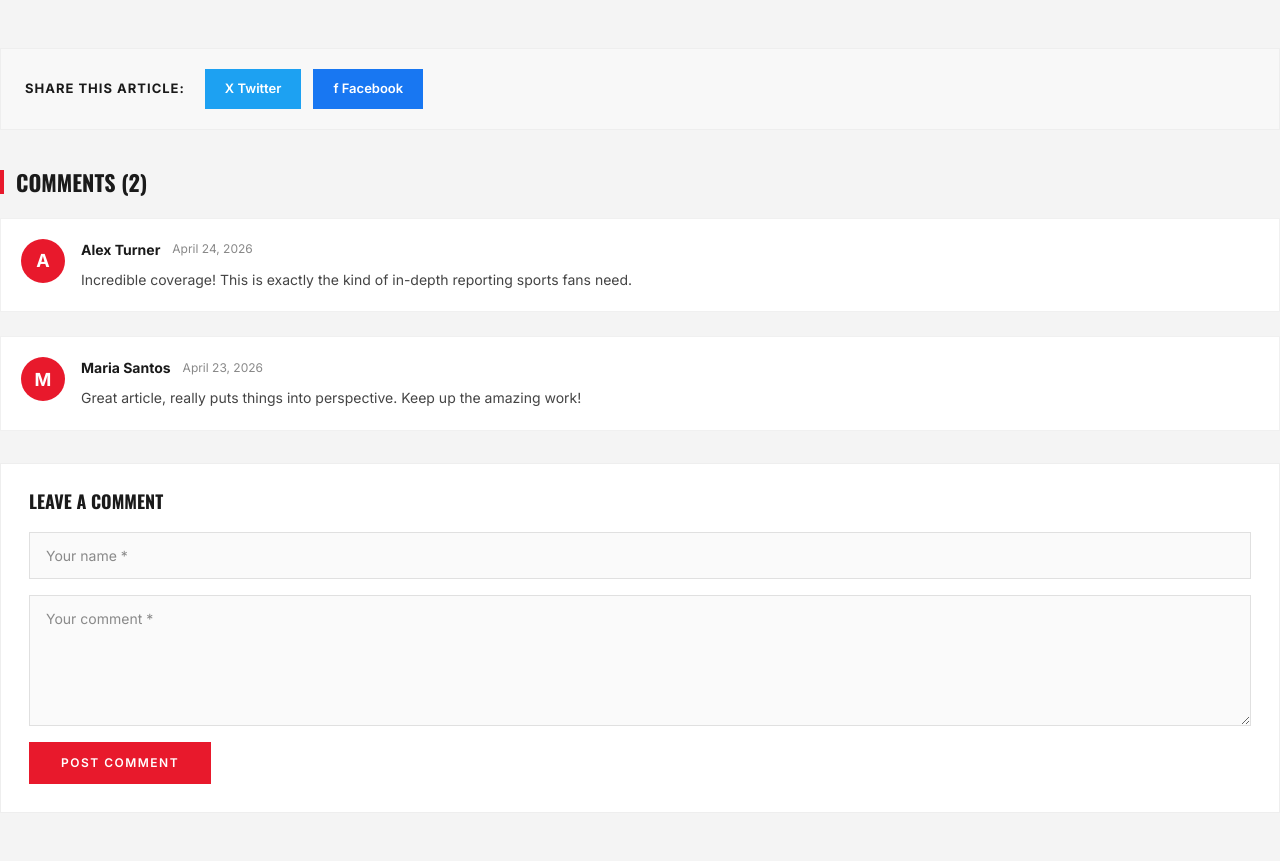
Test: CommentSection — izoh qo'shish › yangi izoh avatari ismning birinchi harfi (uppercase)
Type "Zafar" into the field with placeholder "Your name *". click: [640, 556]
box: [29,532,1251,579]
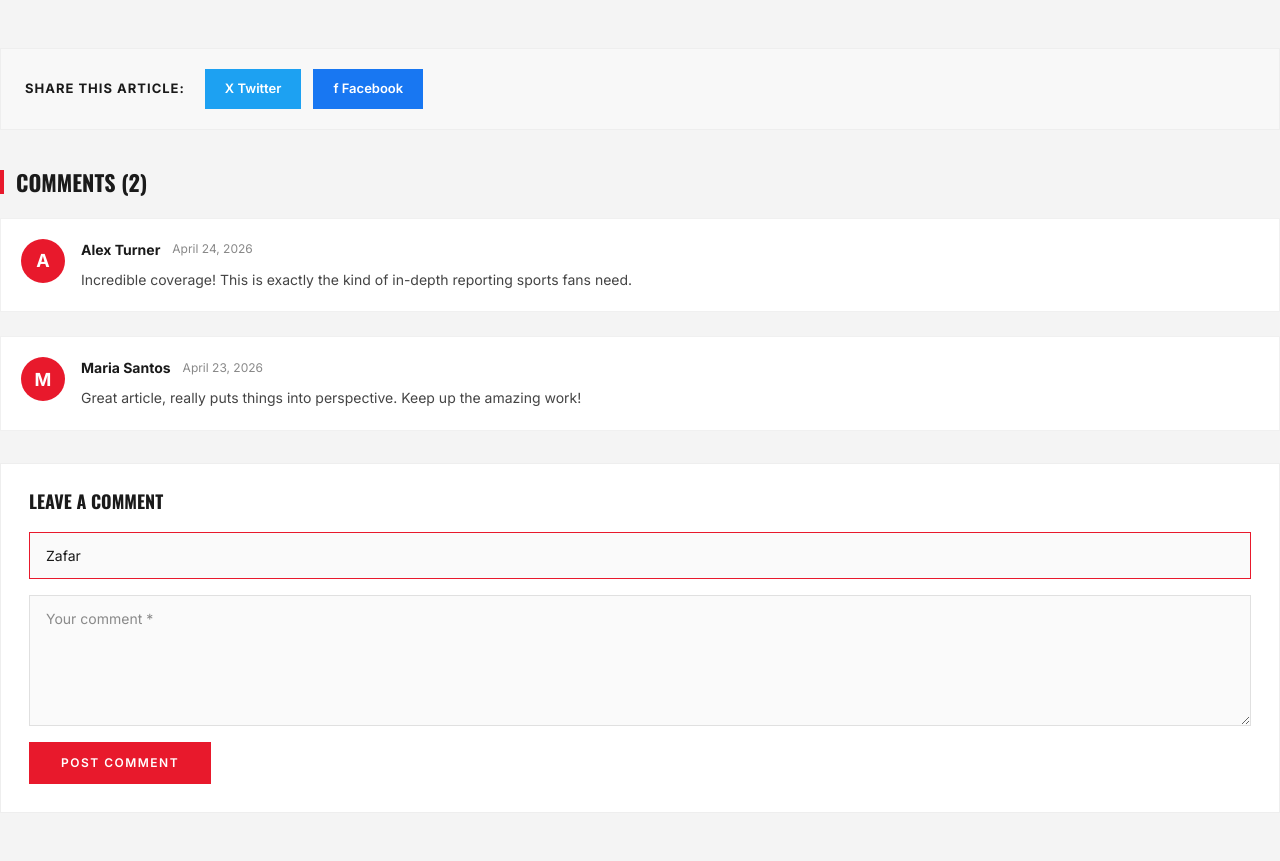
Type "Test" into the text box with placeholder "Your comment *". click: [640, 661]
box: [29,595,1251,726]
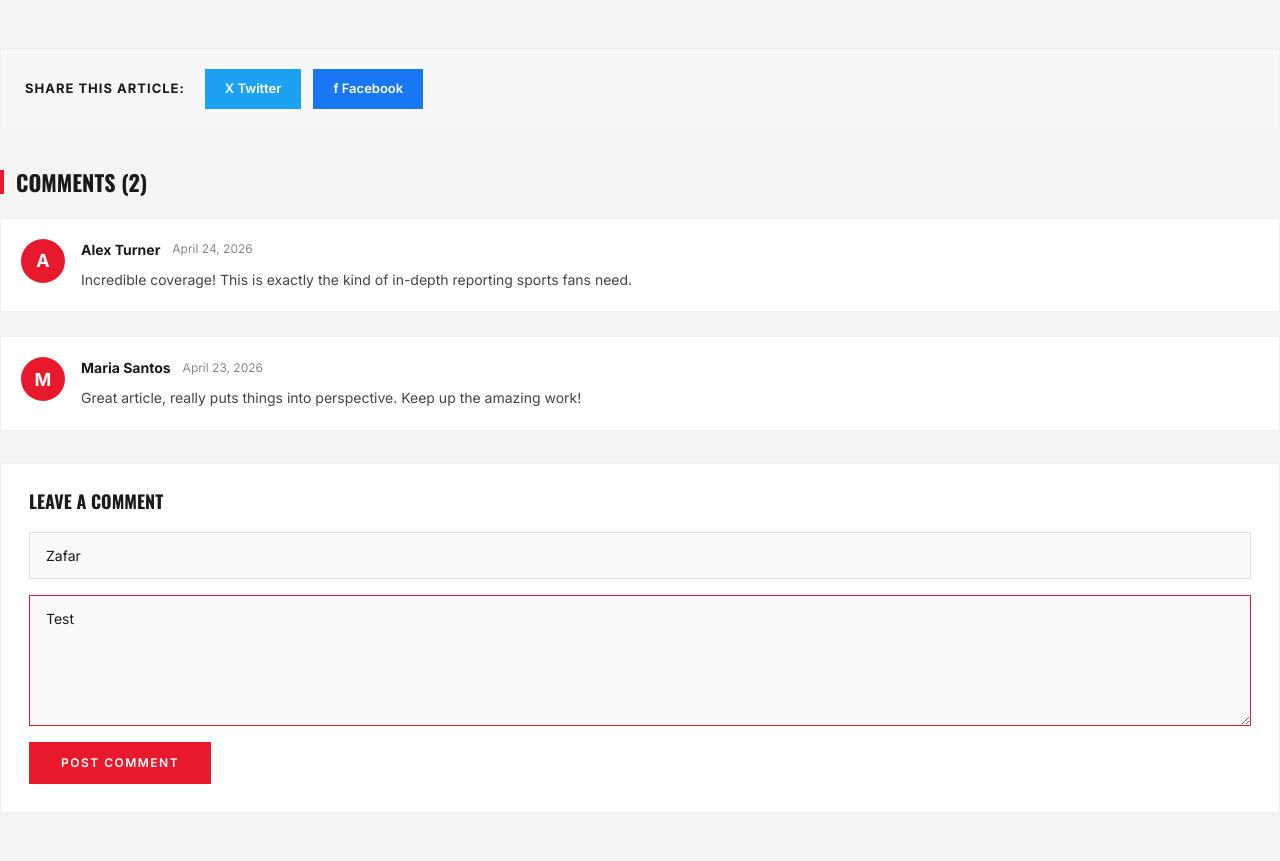
Click the button "Post Comment". click: [120, 763]
box: [29,742,211,784]
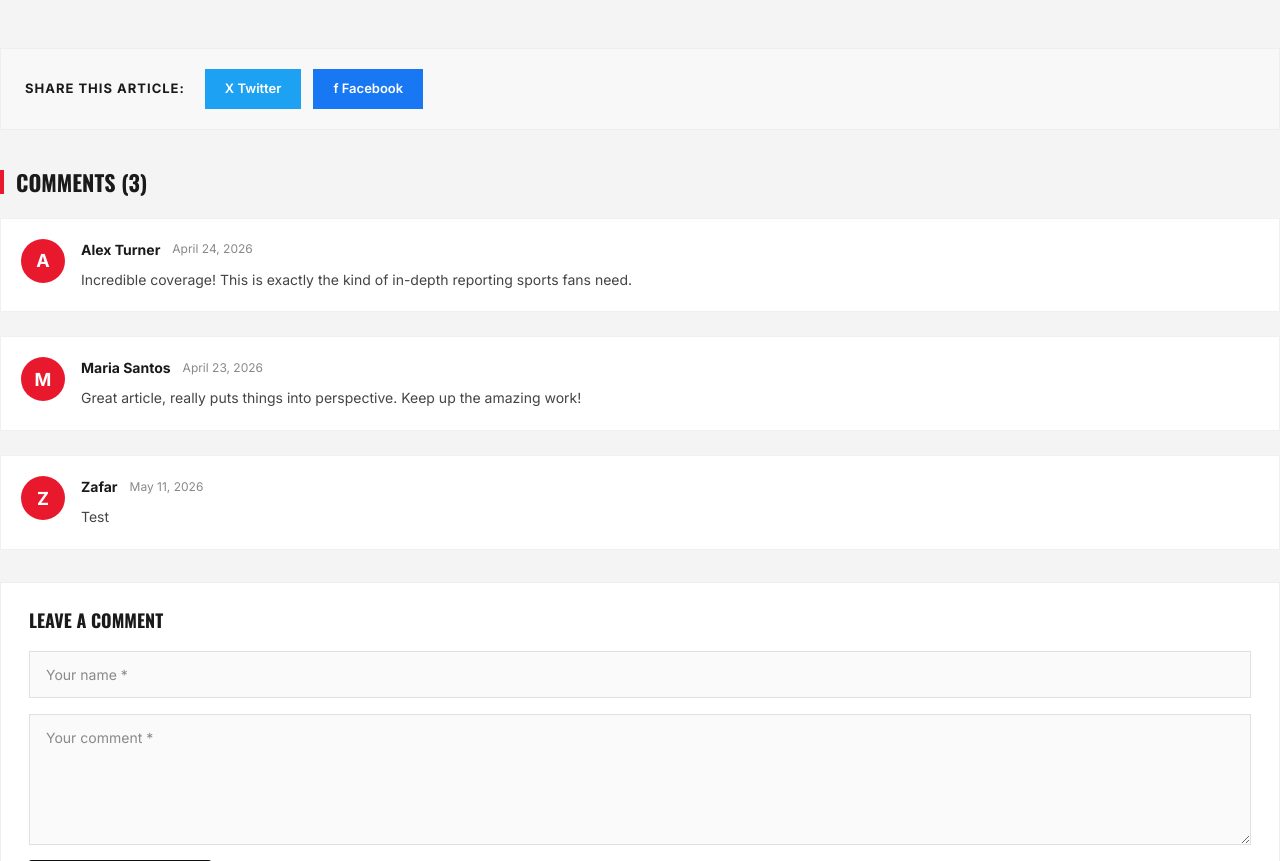
Expected: the text "Z" is shown, [21,476,65,520]
